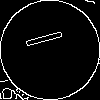I: (25, 25, 73, 50)
